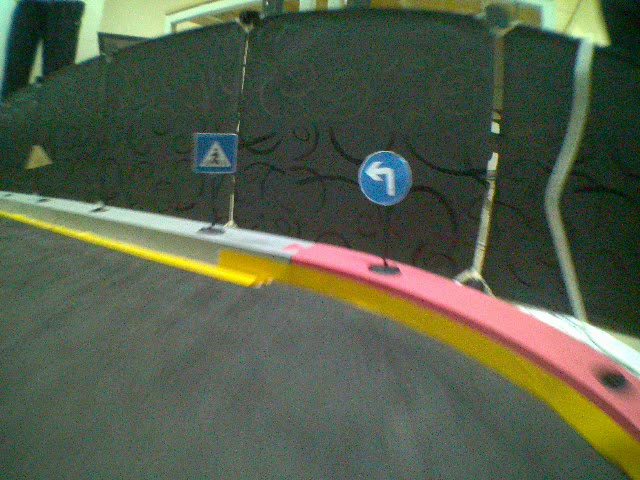crossing: (191, 131, 241, 176)
turn: (355, 148, 413, 206)
